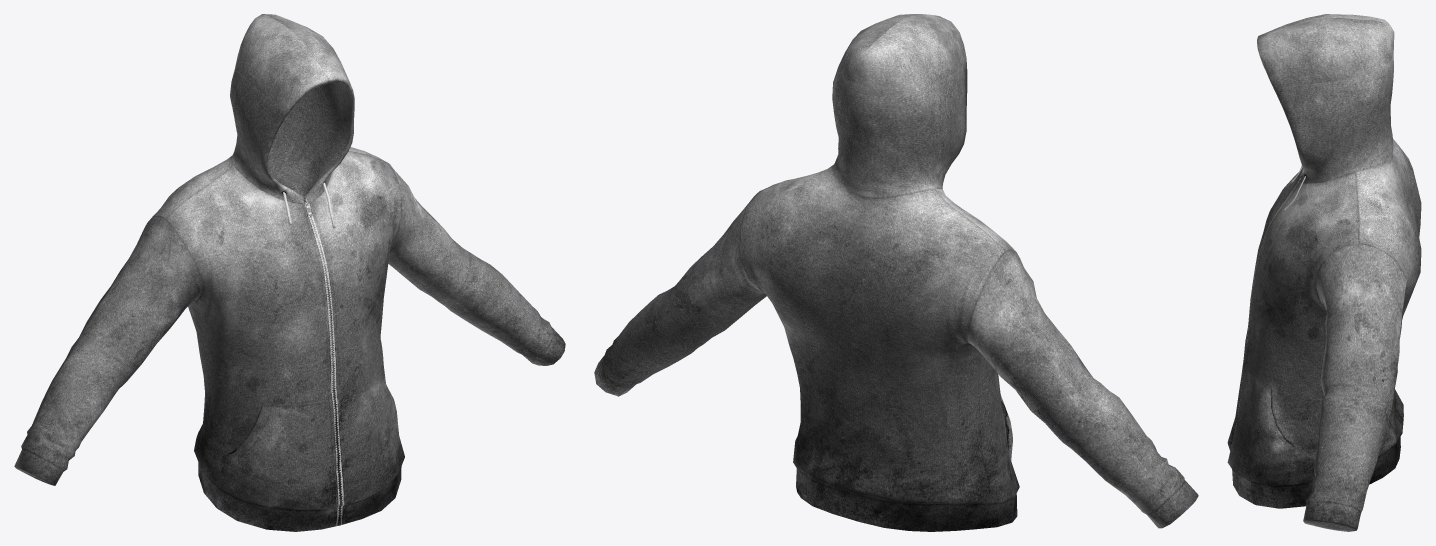
The model's file is SurvivorMale_Chest_Hoodie_Up_Tintable_LOD0.glb.
3 renders of one model, left to right at view 1: azimuth 30°, elevation 25°; view 2: azimuth 150°, elevation 25°; view 3: azimuth 270°, elevation 25°, orthographic. The views are drawn at different scales.
Parts seen in each view (by area): view 1: Hoodie; view 2: Hoodie; view 3: Hoodie.
Part boxes in pixels (bbox=[...]): Hoodie: bbox=[14, 14, 565, 531]; Hoodie: bbox=[594, 14, 1198, 531]; Hoodie: bbox=[1227, 14, 1421, 531].
Size of the model in its own units: 1.13 by 0.9193 by 0.353.
1 material, 1 textured.
